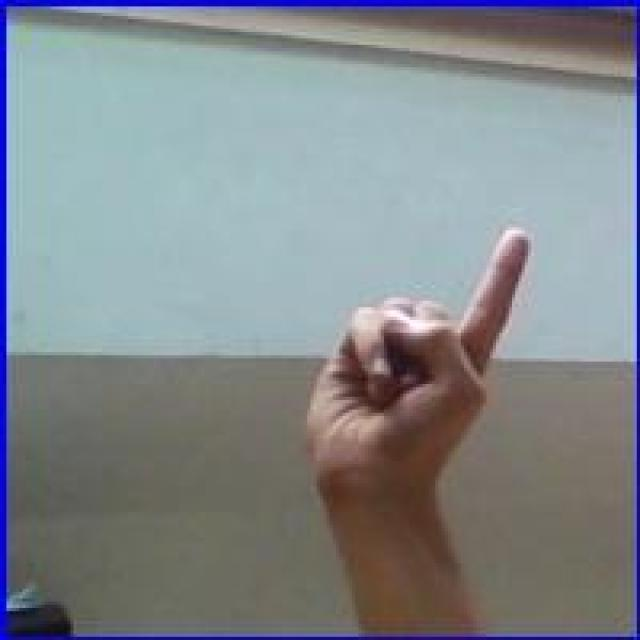Z: (304, 224, 531, 515)
